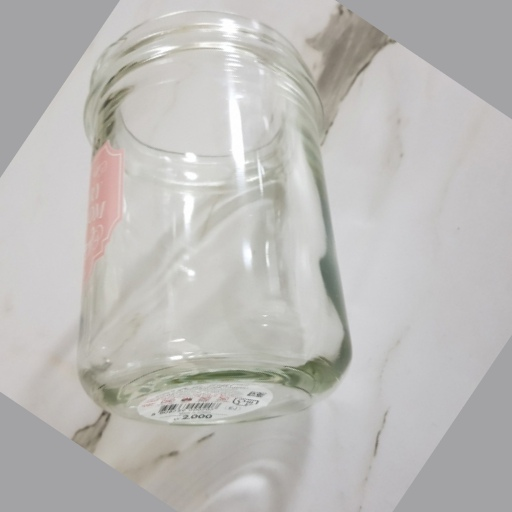Glass_5: (85, 9, 353, 428)
